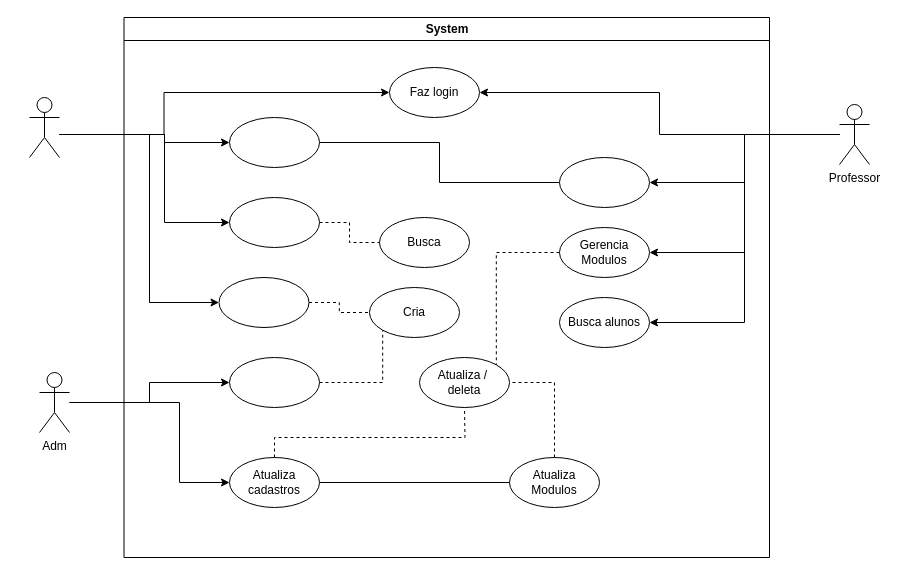
Image size: 897x575. Some labels were removed from this diagram. Here are the shapes that lost their labels. From the top down, the centre of each, then its label:
(x=44, y=127): Estudante
(x=274, y=142): Solicita matricula
(x=604, y=182): Gerencia matriculas
(x=274, y=222): Busca por modulos
(x=263, y=302): Faz registro
(x=274, y=382): Cadastra professores
